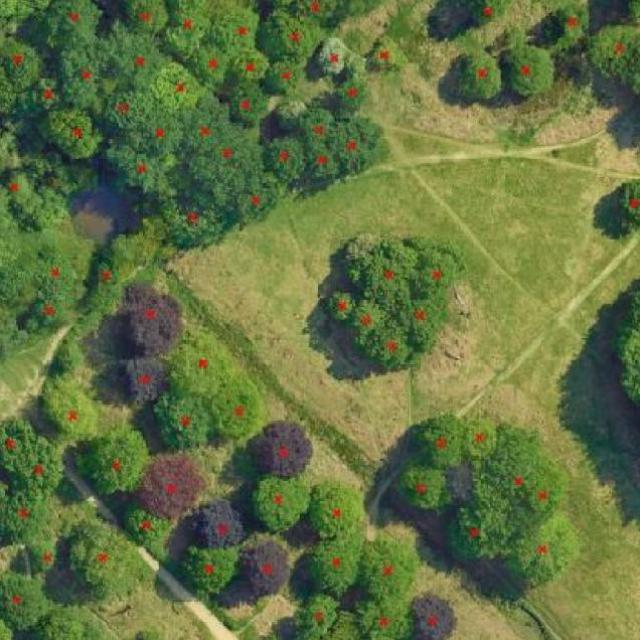tree: (503, 510, 582, 589), (338, 236, 425, 305), (71, 425, 154, 494), (62, 516, 137, 588), (98, 20, 167, 98), (156, 183, 230, 255), (479, 422, 547, 500), (104, 131, 181, 197), (136, 452, 209, 520), (445, 492, 511, 565), (243, 418, 315, 483), (122, 278, 185, 352), (28, 107, 112, 161), (583, 23, 640, 102), (149, 385, 216, 452), (608, 272, 640, 412), (266, 0, 390, 36), (353, 534, 421, 599), (191, 132, 266, 190), (39, 373, 98, 445), (303, 529, 366, 596), (233, 538, 300, 599), (171, 325, 238, 386), (112, 107, 192, 158), (58, 40, 115, 110), (210, 375, 271, 439), (261, 5, 326, 65), (305, 480, 369, 539), (0, 480, 56, 546), (148, 57, 209, 116), (248, 473, 307, 533), (44, 0, 108, 54), (161, 0, 211, 69), (10, 434, 61, 501), (336, 116, 391, 178), (0, 567, 54, 630), (115, 353, 174, 410), (415, 237, 467, 301), (183, 34, 240, 91), (353, 587, 414, 640), (82, 240, 131, 304), (455, 43, 506, 104), (180, 545, 243, 594), (26, 244, 82, 299), (118, 493, 173, 548), (195, 497, 251, 551), (505, 43, 558, 99), (0, 35, 45, 100), (395, 458, 450, 511), (417, 414, 469, 470), (219, 0, 265, 63), (286, 589, 342, 640), (406, 589, 461, 640), (226, 177, 283, 226), (225, 77, 273, 131), (176, 108, 234, 152), (366, 321, 418, 370), (343, 292, 392, 343), (309, 33, 364, 78), (99, 86, 159, 127), (260, 135, 311, 183), (260, 54, 313, 100), (524, 465, 569, 519), (290, 105, 341, 149), (400, 298, 448, 344), (550, 1, 590, 52), (120, 0, 172, 39), (0, 413, 35, 470), (365, 34, 412, 76), (0, 166, 42, 212), (333, 71, 374, 115), (26, 69, 67, 113), (304, 144, 349, 184), (26, 293, 70, 332), (228, 48, 271, 86), (458, 0, 515, 27), (322, 285, 362, 323), (464, 415, 497, 457), (24, 540, 61, 574), (617, 178, 640, 228)
